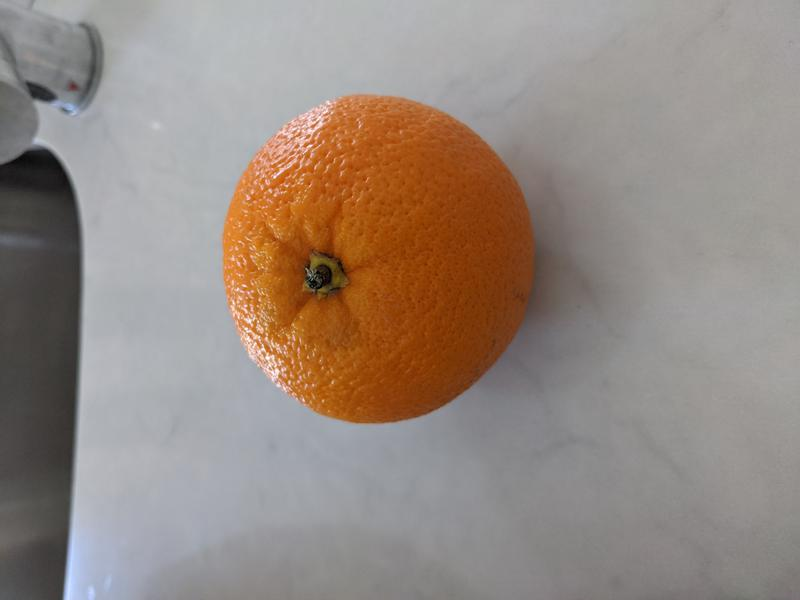orange: (222, 95, 535, 424)
